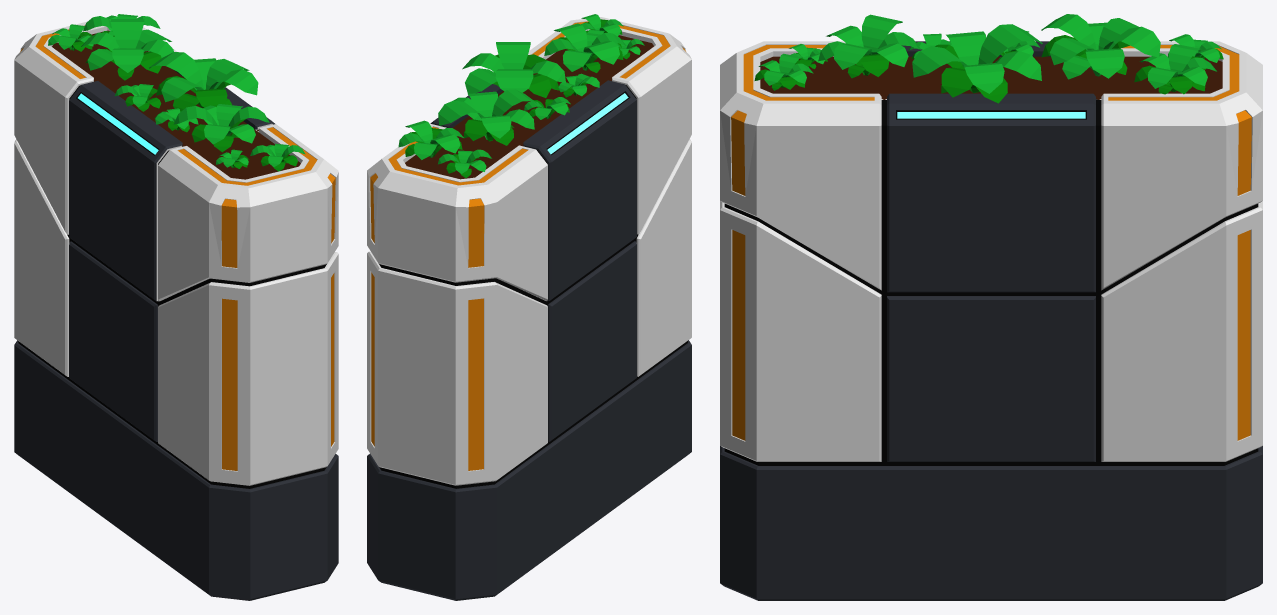
The model's file is SM_Botanical_Planter_TallRect.fbx.
3 renders of one model, left to right at view 1: azimuth 30°, elevation 25°; view 2: azimuth 150°, elevation 25°; view 3: azimuth 270°, elevation 25°, orthographic. The views are drawn at different scales.
Visible parts, largest first — view 1: SM_Botanical_Planter_TallRect; view 2: SM_Botanical_Planter_TallRect; view 3: SM_Botanical_Planter_TallRect.
Boxes of the visible parts, <box> form: SM_Botanical_Planter_TallRect: <box>14,14,338,600</box>; SM_Botanical_Planter_TallRect: <box>367,14,691,600</box>; SM_Botanical_Planter_TallRect: <box>720,14,1262,600</box>.
Size of the model in its own units: 41.11 by 131 by 120.
